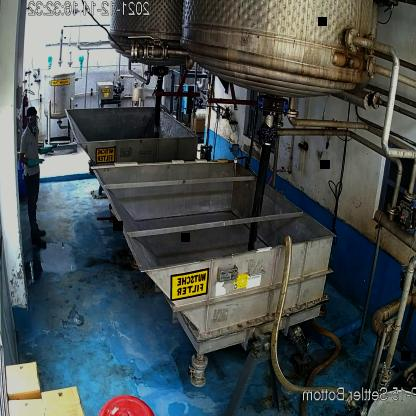goggles: (28, 113, 39, 124)
mask: (27, 120, 41, 136)
